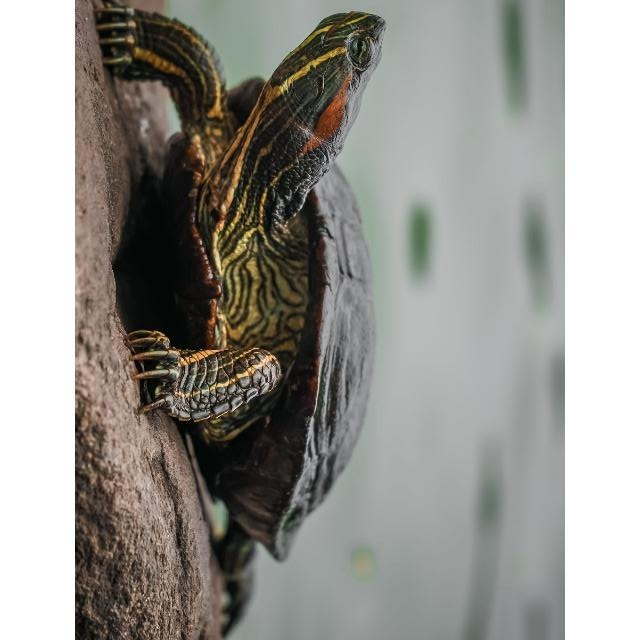turtle: (98, 10, 388, 633)
